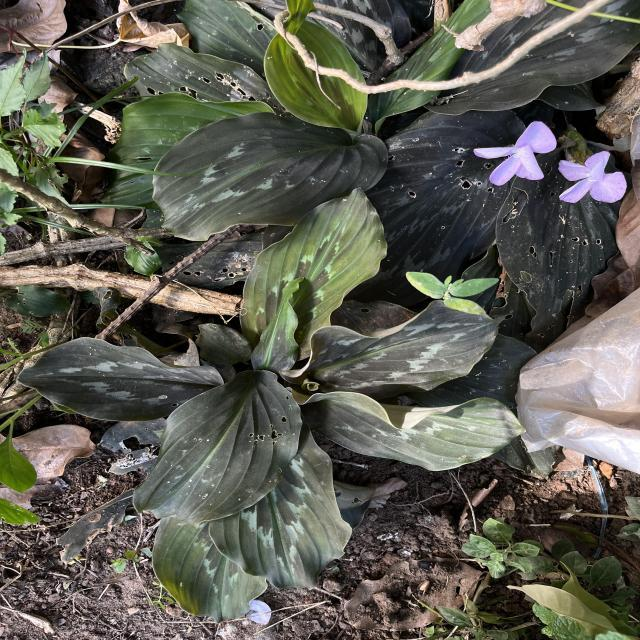Kaempferia galanga linn: (150, 110, 391, 242), (128, 368, 304, 531), (238, 184, 390, 364), (207, 417, 356, 593), (277, 298, 508, 400), (279, 385, 528, 473), (14, 336, 224, 424), (150, 516, 270, 626), (248, 274, 308, 374)
